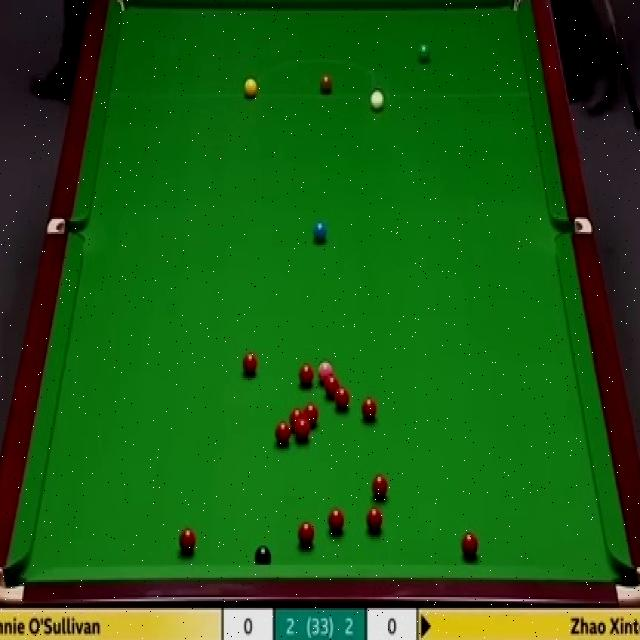black-ball: (256, 544, 275, 564)
blue-ball: (312, 222, 328, 240)
brown-ball: (320, 74, 334, 98)
green-ball: (419, 43, 429, 59)
pink-ball: (318, 361, 333, 382)
red-ball: (464, 532, 482, 560), (178, 527, 196, 554), (298, 521, 316, 548), (372, 473, 388, 503), (328, 504, 344, 534), (303, 403, 320, 430), (274, 421, 291, 447), (367, 508, 384, 532), (243, 352, 257, 377), (324, 374, 339, 396), (296, 419, 310, 442), (361, 399, 377, 418), (335, 389, 348, 412), (298, 364, 312, 384), (290, 410, 304, 430)
white-ball: (368, 88, 385, 110)
yellow-ball: (244, 77, 257, 99)
